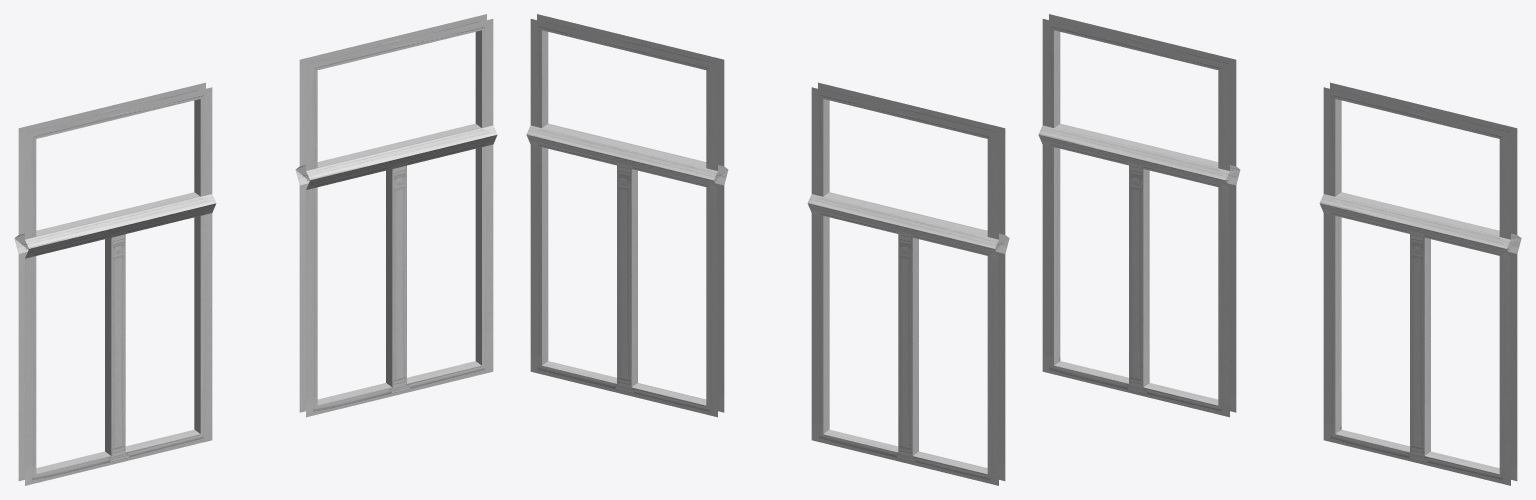
The model's file is Window2doubleC.fbx.
3 renders of one model, left to right at view 1: azimuth 30°, elevation 25°; view 2: azimuth 150°, elevation 25°; view 3: azimuth 330°, elevation 25°, orthographic.
Parts seen in each view (by area): view 1: Window2doubleC; view 2: Window2doubleC; view 3: Window2doubleC.
Part boxes in pixels (<box>): Window2doubleC: <box>14,14,497,485</box>; Window2doubleC: <box>526,14,1009,485</box>; Window2doubleC: <box>1038,14,1521,485</box>.
Size of the model in its own units: 250 by 180 by 13.57.
